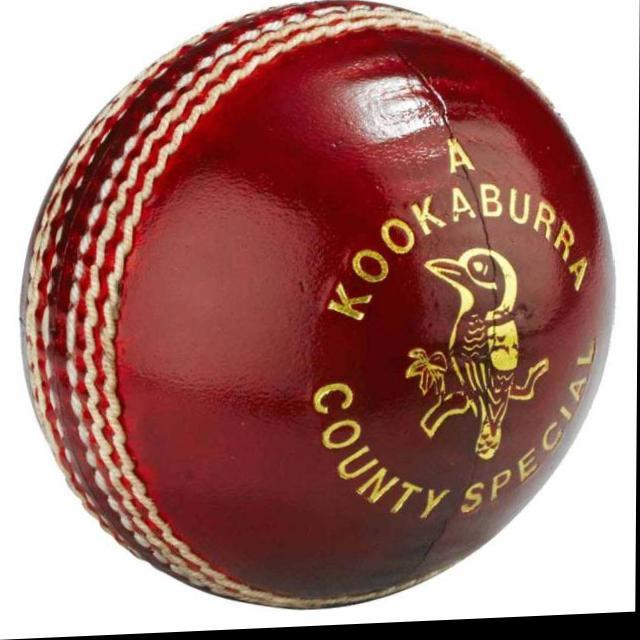cricket ball: (20, 4, 614, 615)
